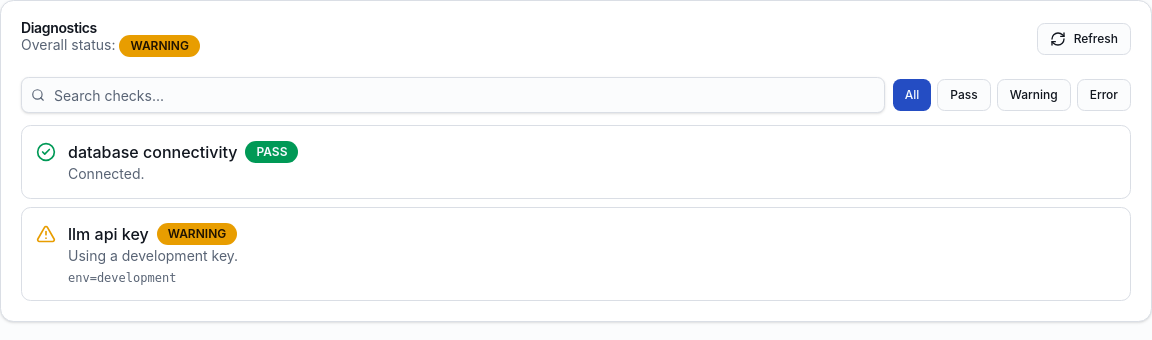
Test case: DiagnosticsPage › filters findings by a search term
Expected: the text "database connectivity" is shown, [68, 140, 238, 164]
Type "connectivity" into the field named "Search diagnostic checks" at (453,95), box [21, 77, 885, 113]
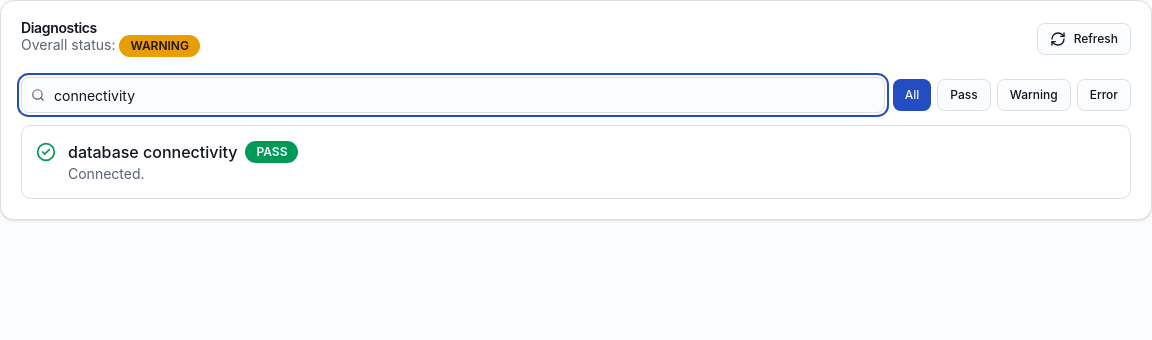
Expected: the text "database connectivity" is shown, [68, 140, 238, 164]
Result: the text "llm api key" is gone
